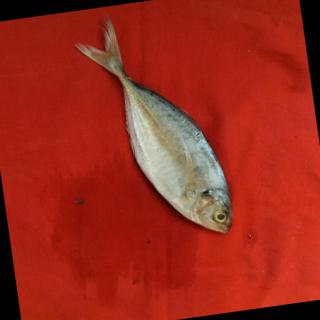Ikan: (74, 15, 252, 258)
